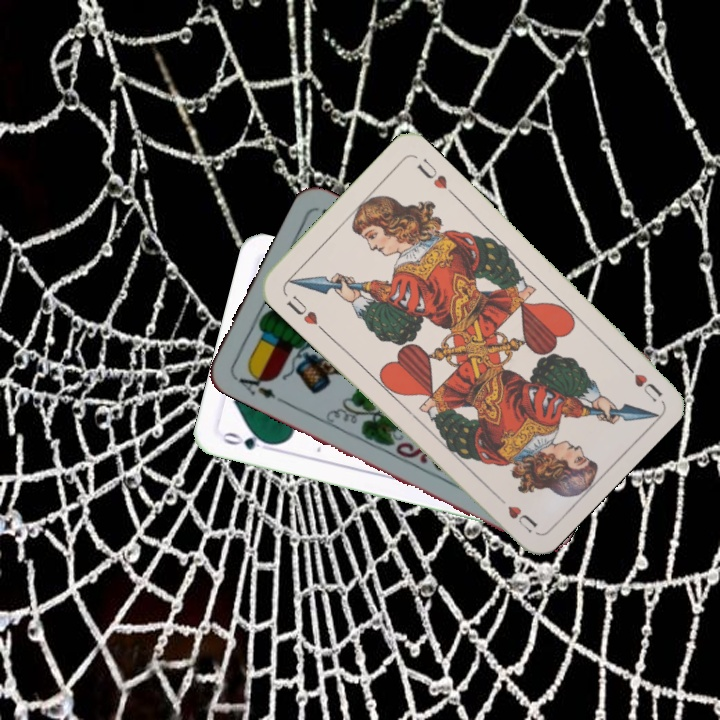EA: (230, 366, 286, 405)
GO: (218, 428, 277, 454)
HU: (617, 357, 666, 405), (282, 290, 321, 328)
